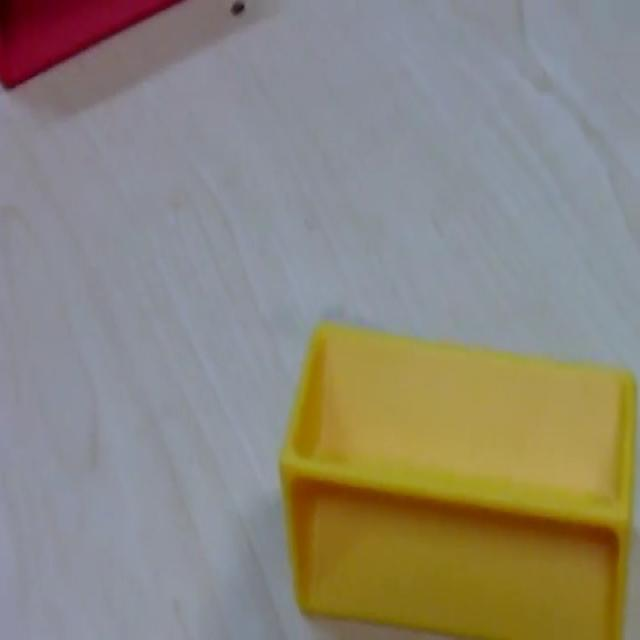yellow_block: (278, 316, 637, 636)
